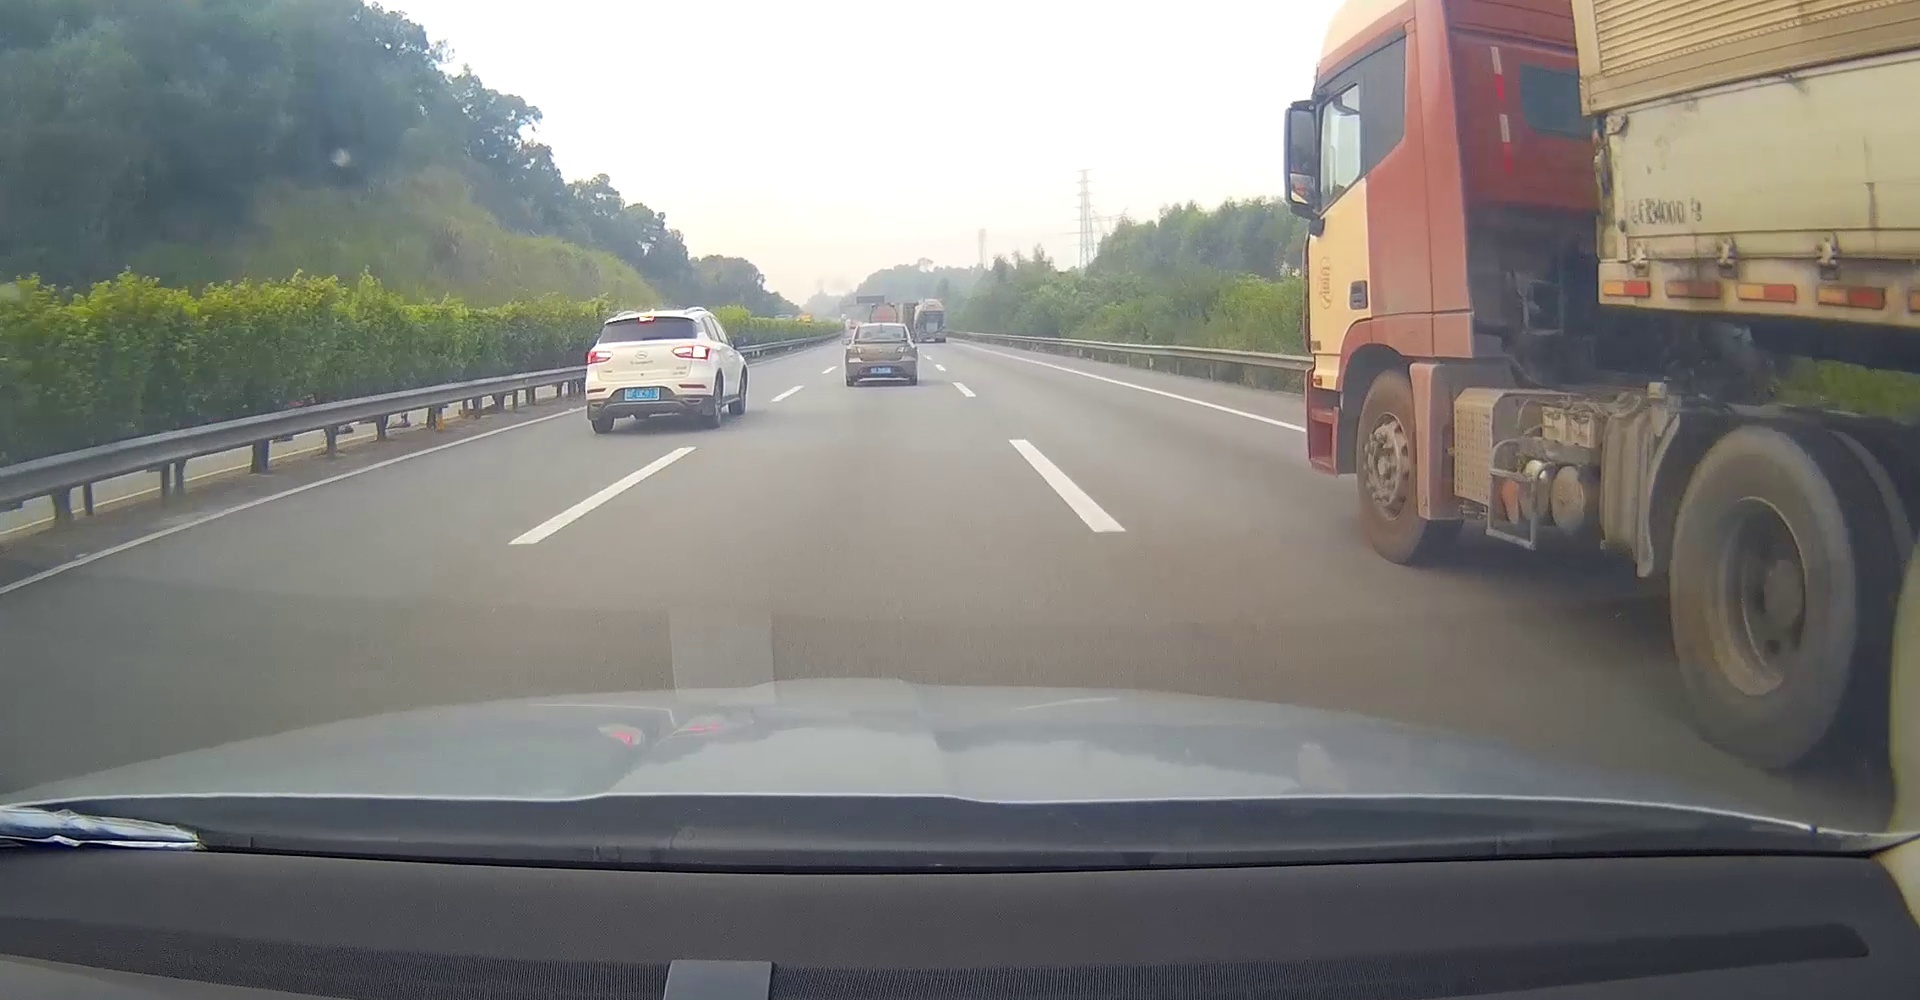L_light: (587, 350, 615, 365), (847, 346, 865, 354)
R_light: (672, 344, 710, 360), (897, 345, 916, 353)
T_light: (637, 316, 657, 324), (876, 325, 886, 327)
day-brake: (584, 310, 715, 433)
day-no: (844, 324, 917, 387)
